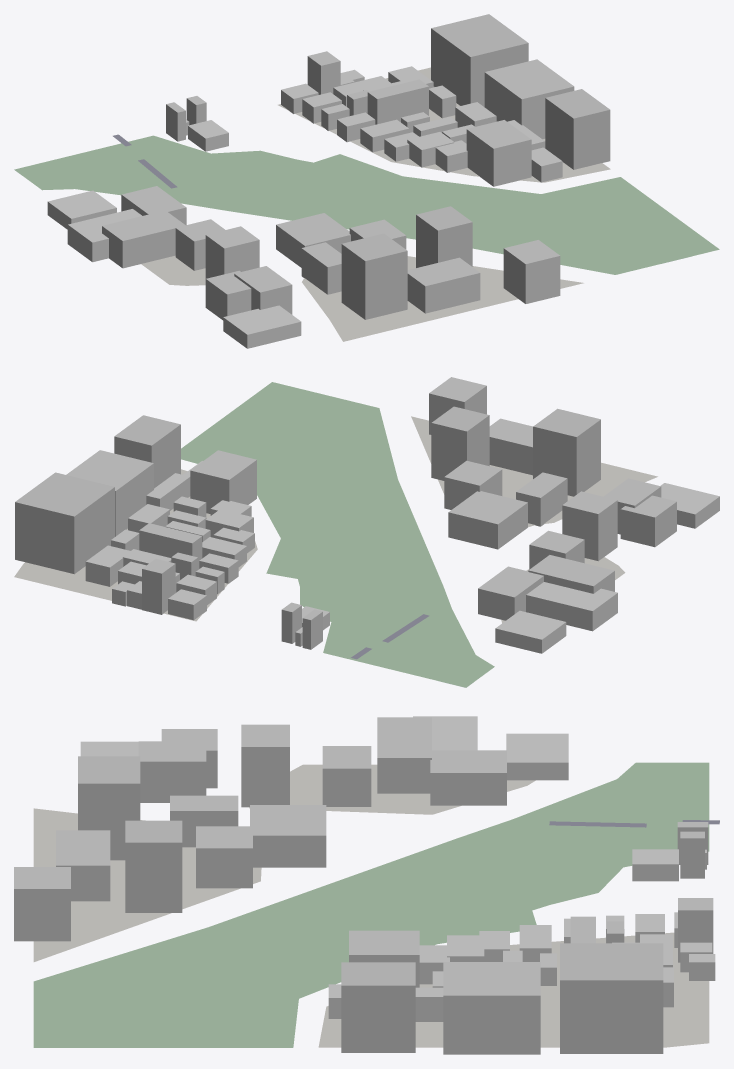
Rendered from 125_90_mid.glb.
3 renders of one model, top to bottom at view 1: azimuth 30°, elevation 25°; view 2: azimuth 150°, elevation 25°; view 3: azimuth 270°, elevation 25°, orthographic. The views are drawn at different scales.
Bounding box in the file's own units: 551 × 63.97 × 523.
